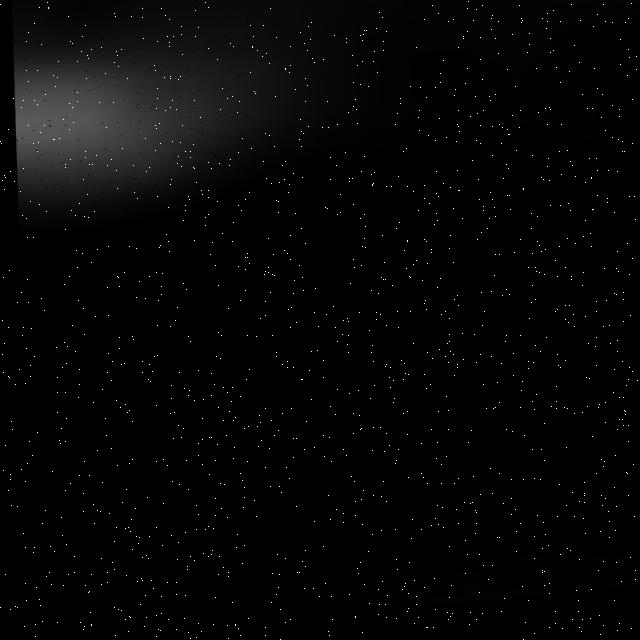person: (7, 26, 261, 233)
